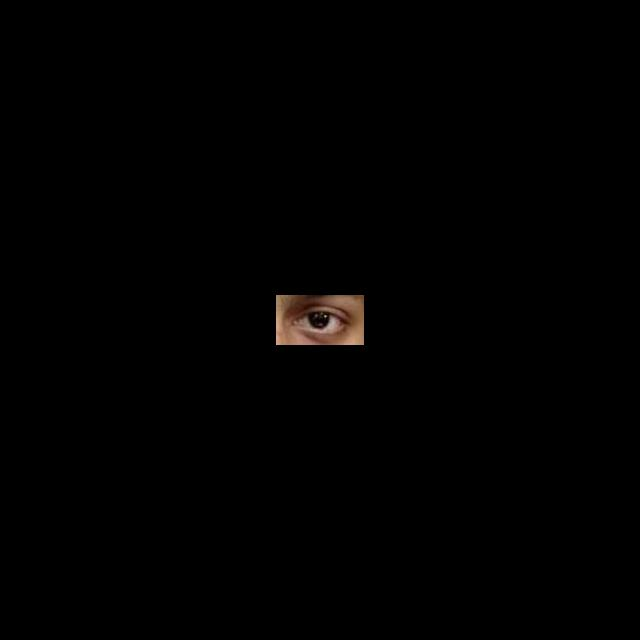eye: (301, 312, 341, 331)
iris: (308, 312, 330, 329)
